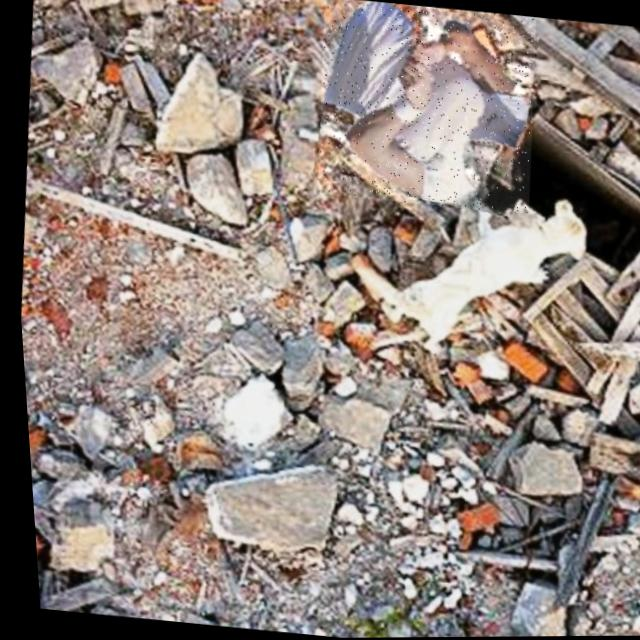Person in Rubble: (302, 0, 544, 215)
